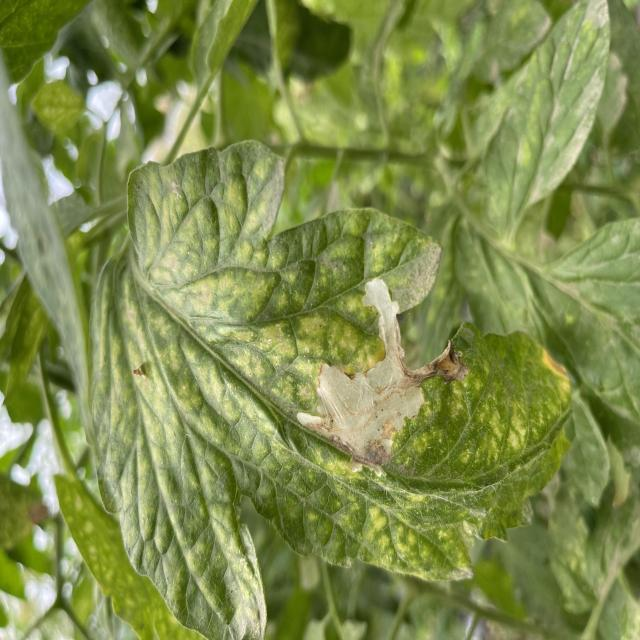Tuta absoluta: (270, 274, 477, 484)
